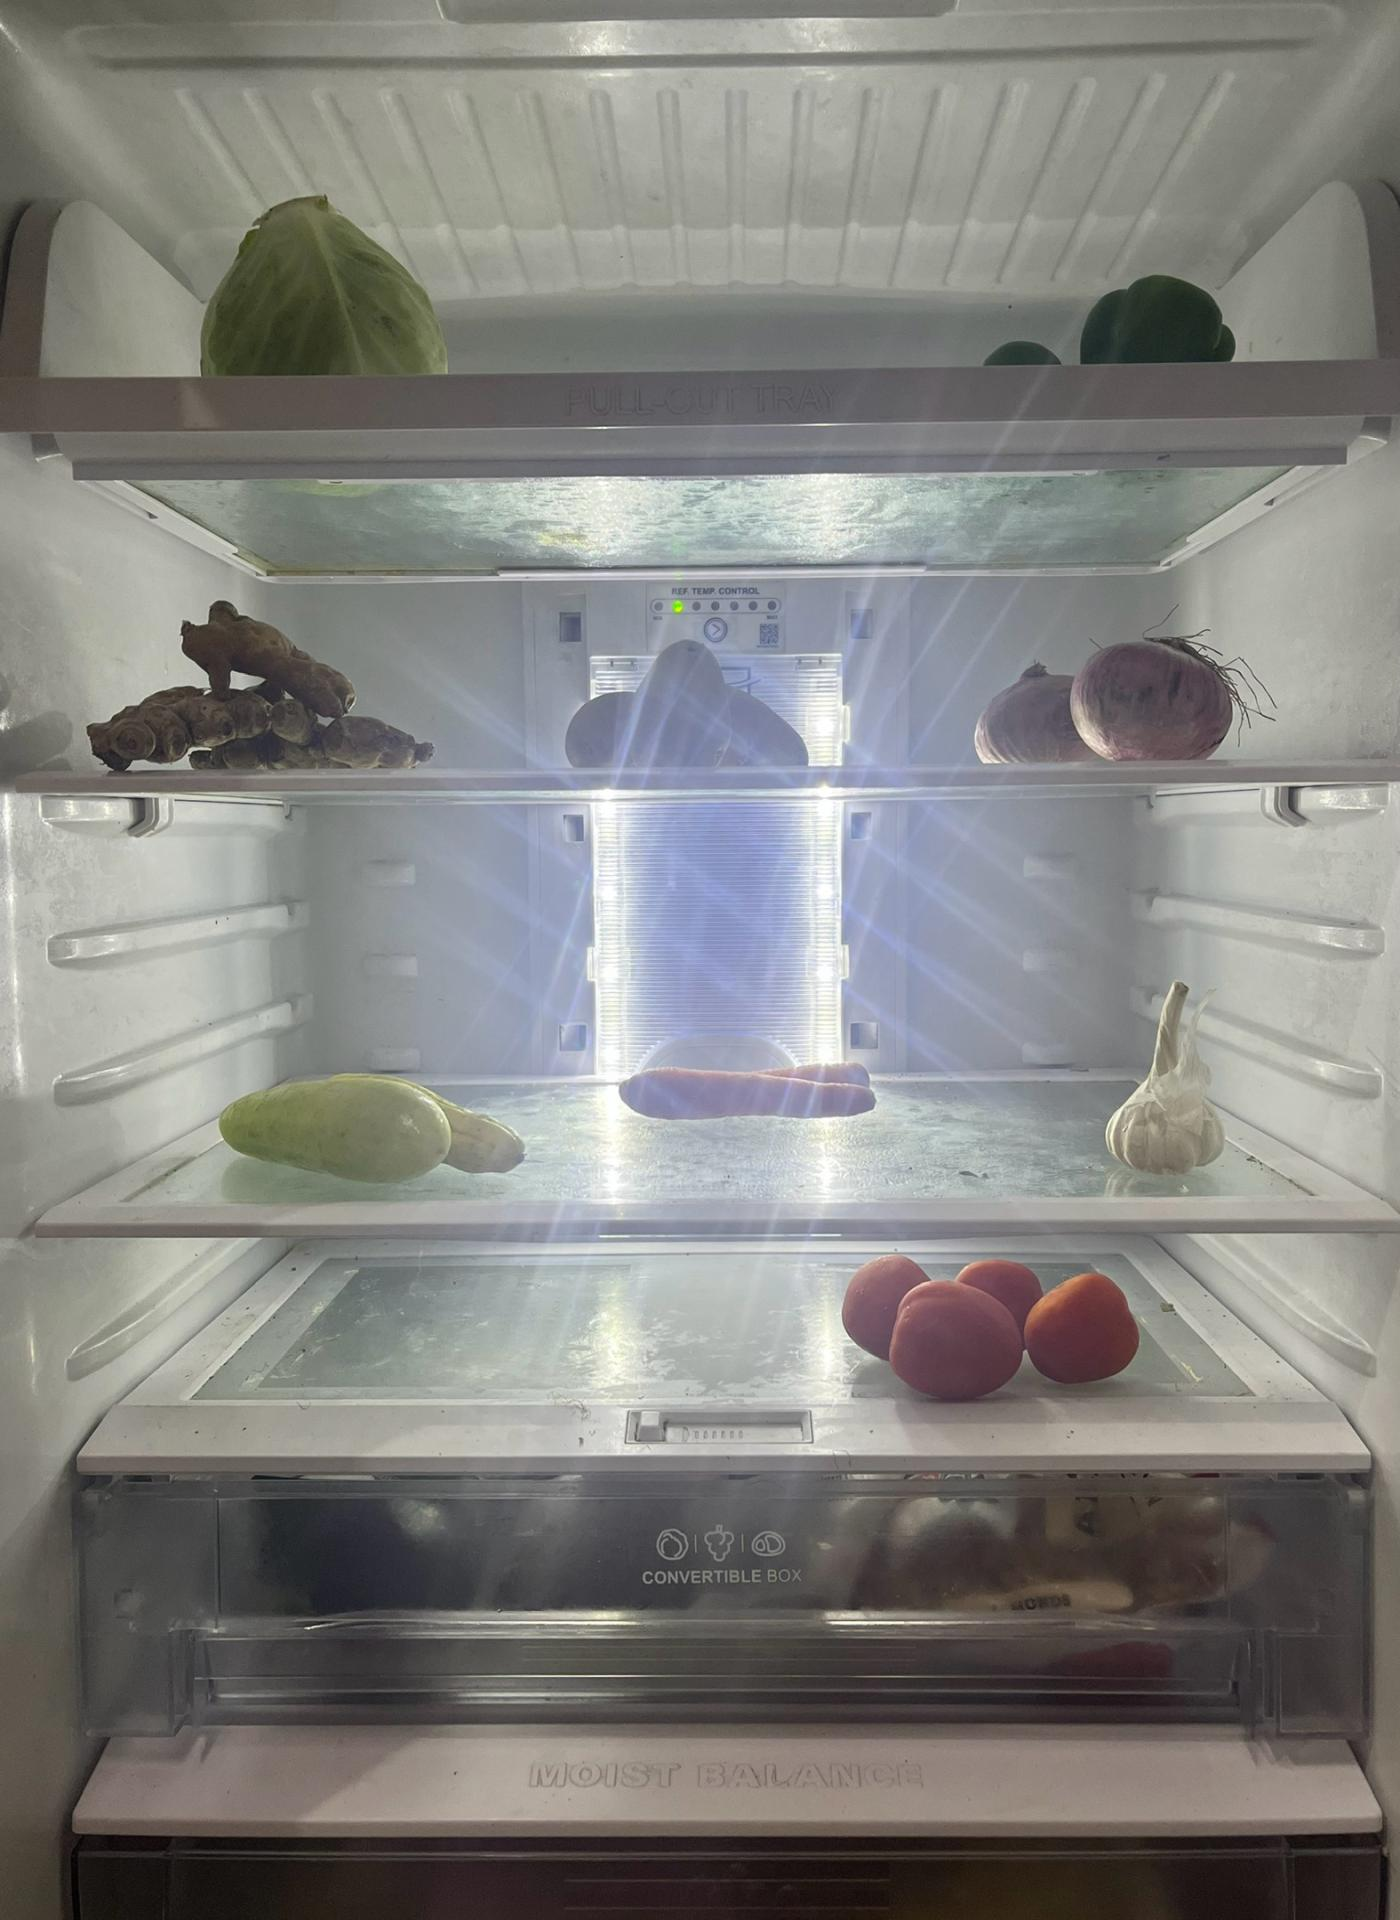cabbage: (177, 192, 459, 373)
capsicum: (990, 243, 1254, 362)
carrots: (622, 1057, 892, 1124)
cucumber: (201, 1070, 534, 1179)
garlic: (86, 593, 438, 777), (1111, 963, 1236, 1170)
onion: (969, 631, 1248, 759)
potato: (570, 642, 830, 774)
tomato: (829, 1255, 1147, 1395)
